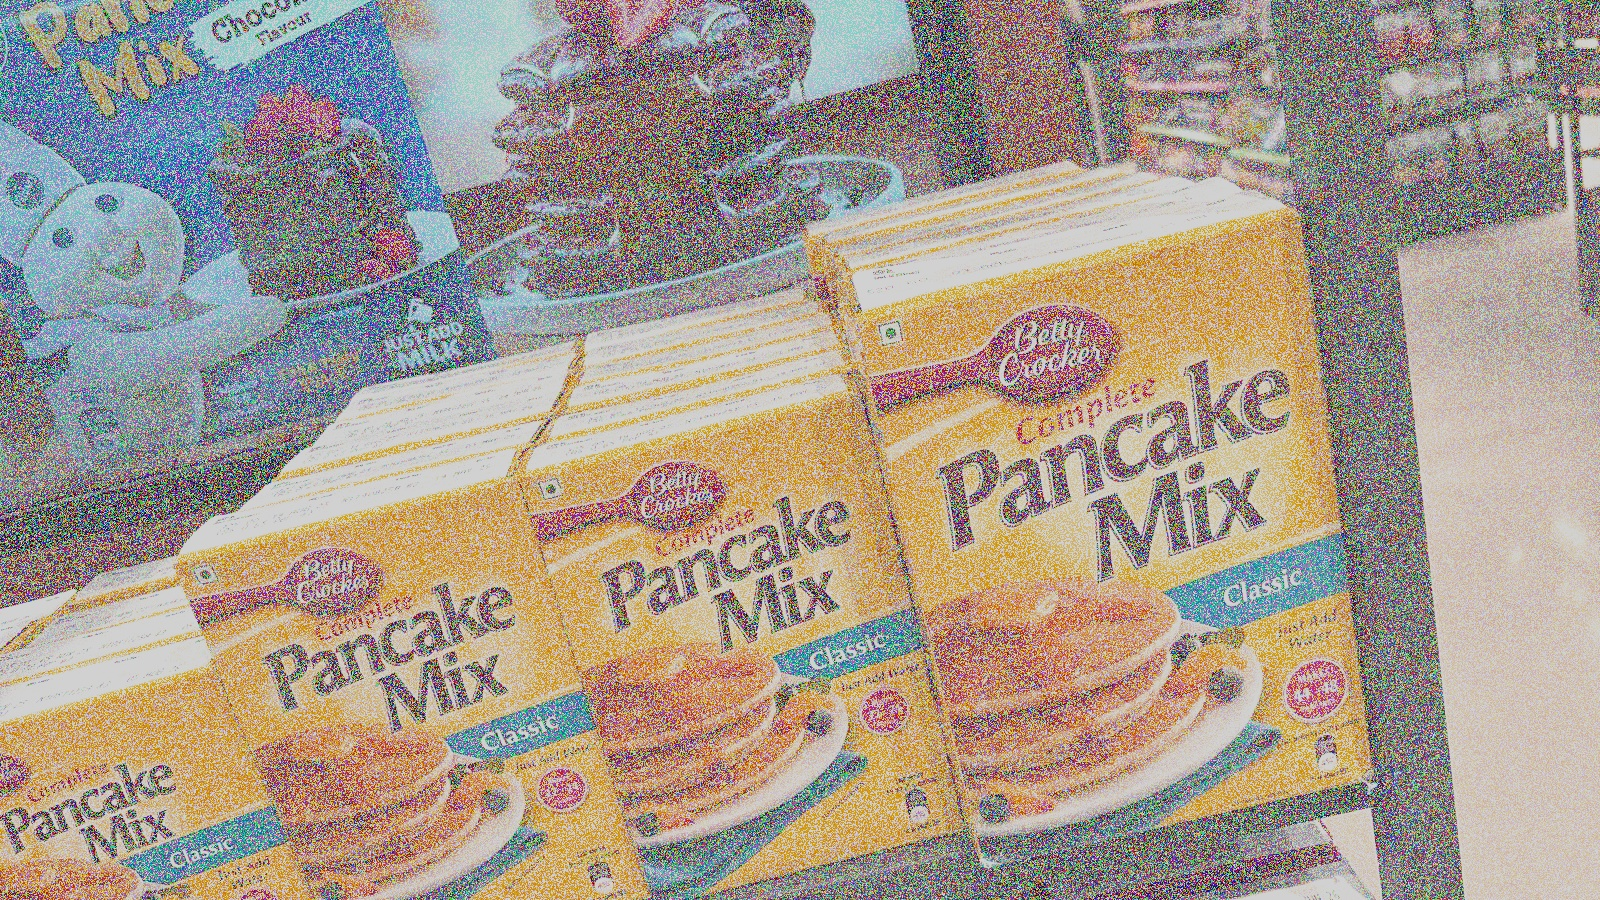Betty Crocker Pancake Mix: (842, 292, 1395, 818), (536, 424, 1007, 900), (188, 504, 668, 900), (0, 684, 318, 900)
